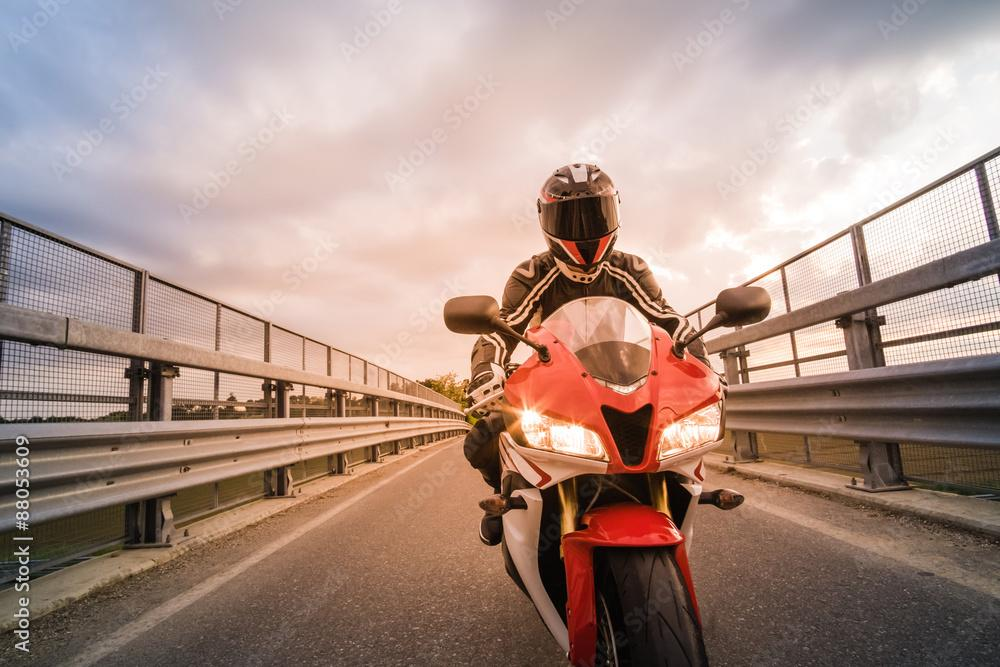helmet: (536, 162, 622, 274)
